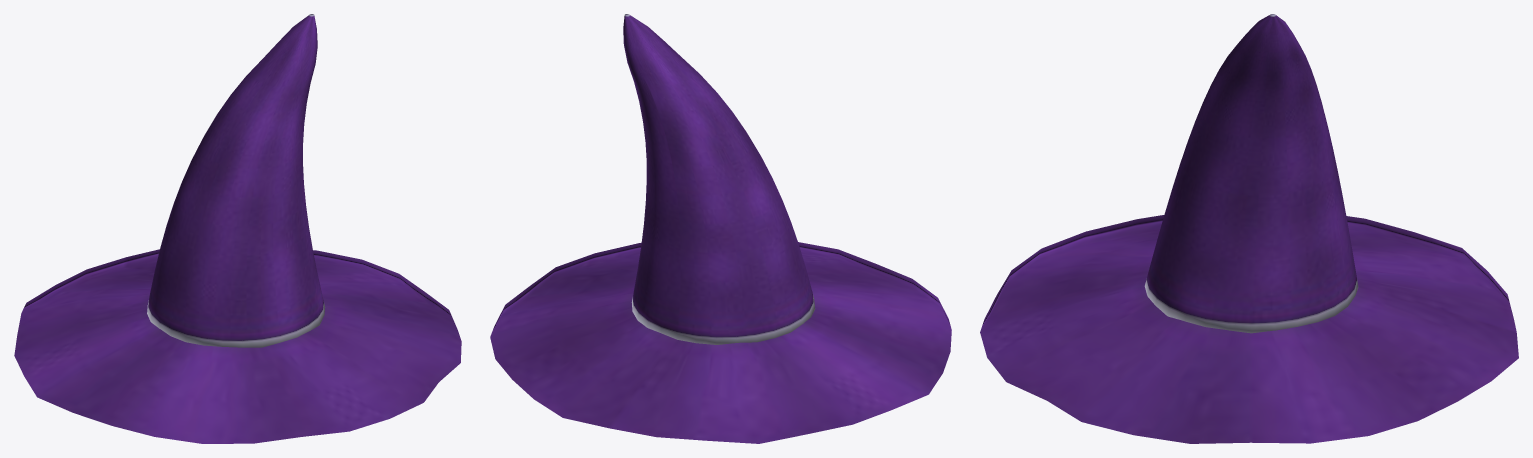
The model's file is amethyst_pointed_head.glb.
3 renders of one model, left to right at view 1: azimuth 30°, elevation 25°; view 2: azimuth 150°, elevation 25°; view 3: azimuth 270°, elevation 25°, orthographic. The views are drawn at different scales.
Visible parts, largest first — view 1: amethyst_pointed_head; view 2: amethyst_pointed_head; view 3: amethyst_pointed_head.
Part boxes in pixels (x1,y1,x2,y2): amethyst_pointed_head: (14,14,461,443); amethyst_pointed_head: (490,14,951,443); amethyst_pointed_head: (980,14,1518,443).
Size of the model in its own units: 0.55 by 0.4122 by 0.5494.
1 material, 1 textured.
